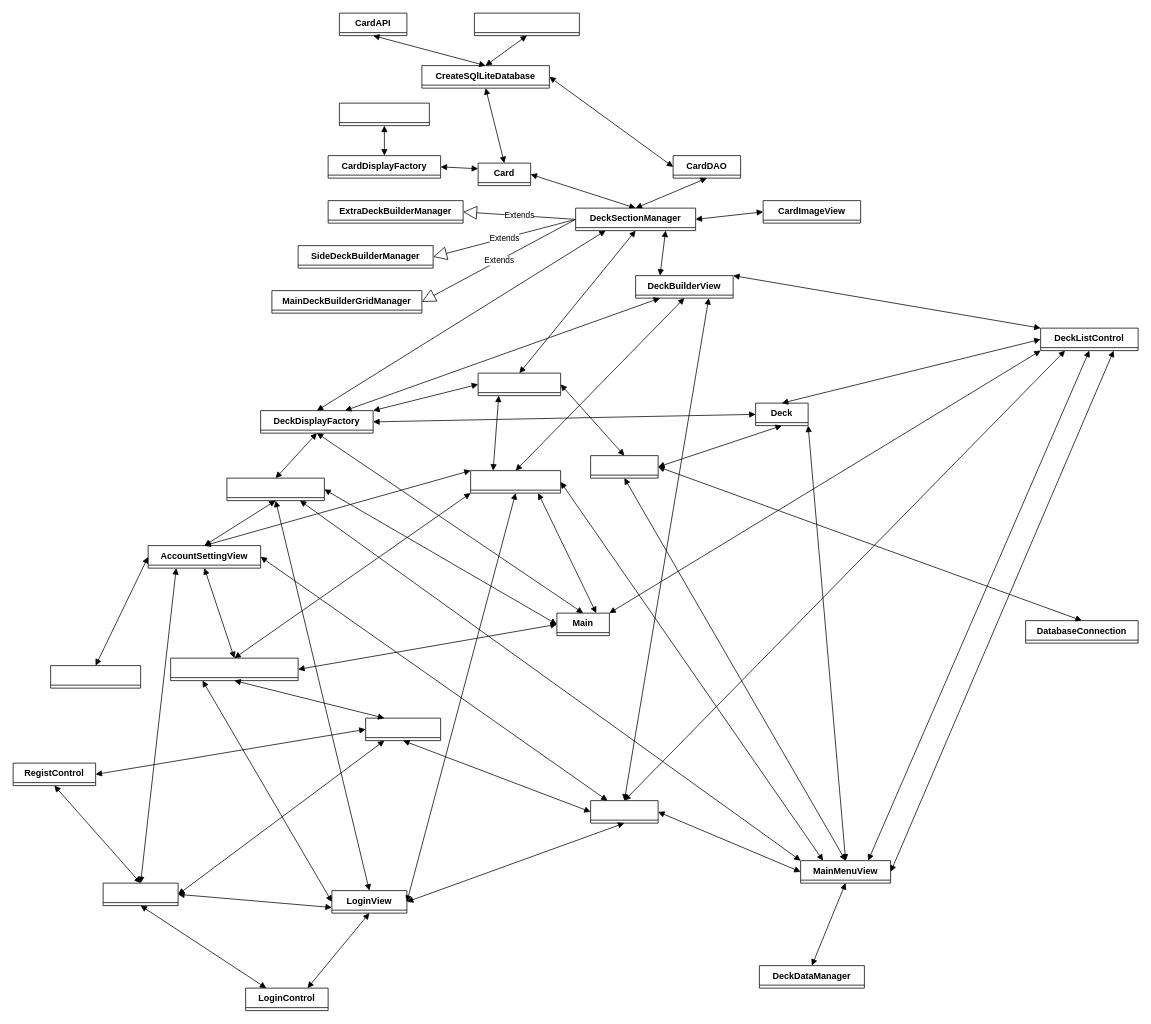
Image size: 1151x1024. Some labels were removed from this diagram. The shapes that lost their labels are listed below. From the top down, each one's centre as x and y in pixels, then its label:
At point (526, 24): "DatabaseManager".
At point (384, 114): "BanlistManager".
At point (519, 384): "SharingView".
At point (515, 481): "SceneManager".
At point (624, 466): "DeckDAO".
At point (275, 489): "UserInformation".
At point (95, 676): "MusicController".
At point (234, 669): "UserInformationManager".
At point (403, 729): "RegistView".
At point (624, 811): "UIHelper".
At point (140, 894): "UserModel".
